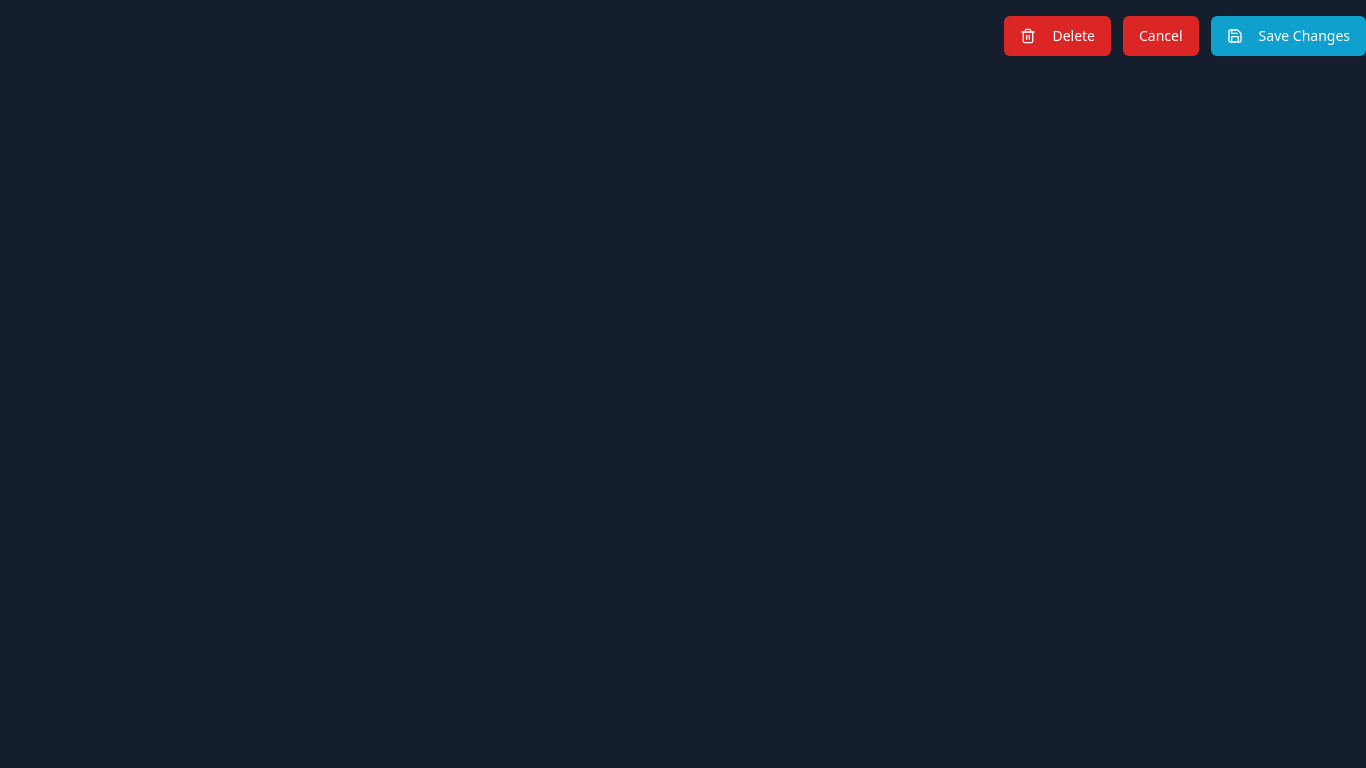
Test: editor deletion delegates to the queued page action › keeps a failed queue write visible rather than claiming deletion
Click the button "Delete" at (1058, 36), box [1004,16,1111,56]
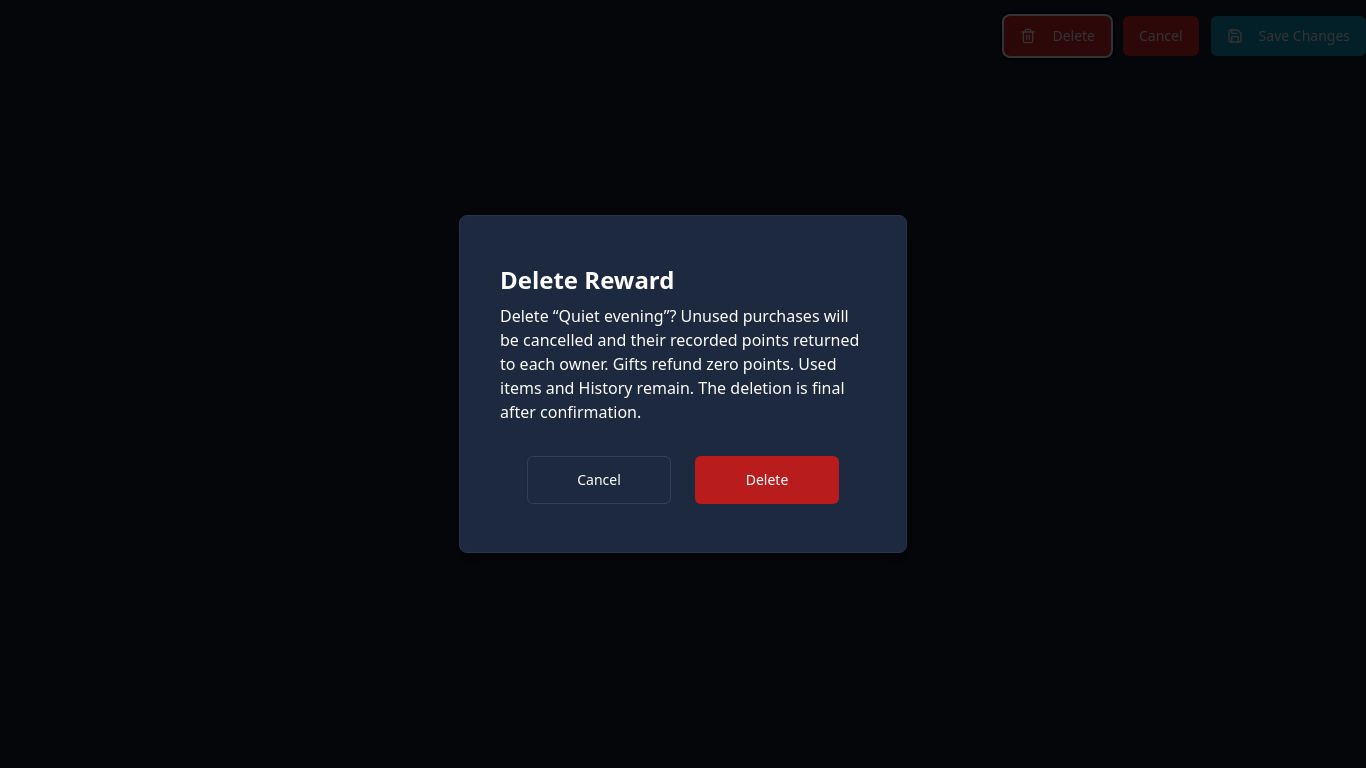
Click the button "Delete" at (767, 480), box [695,456,839,504]
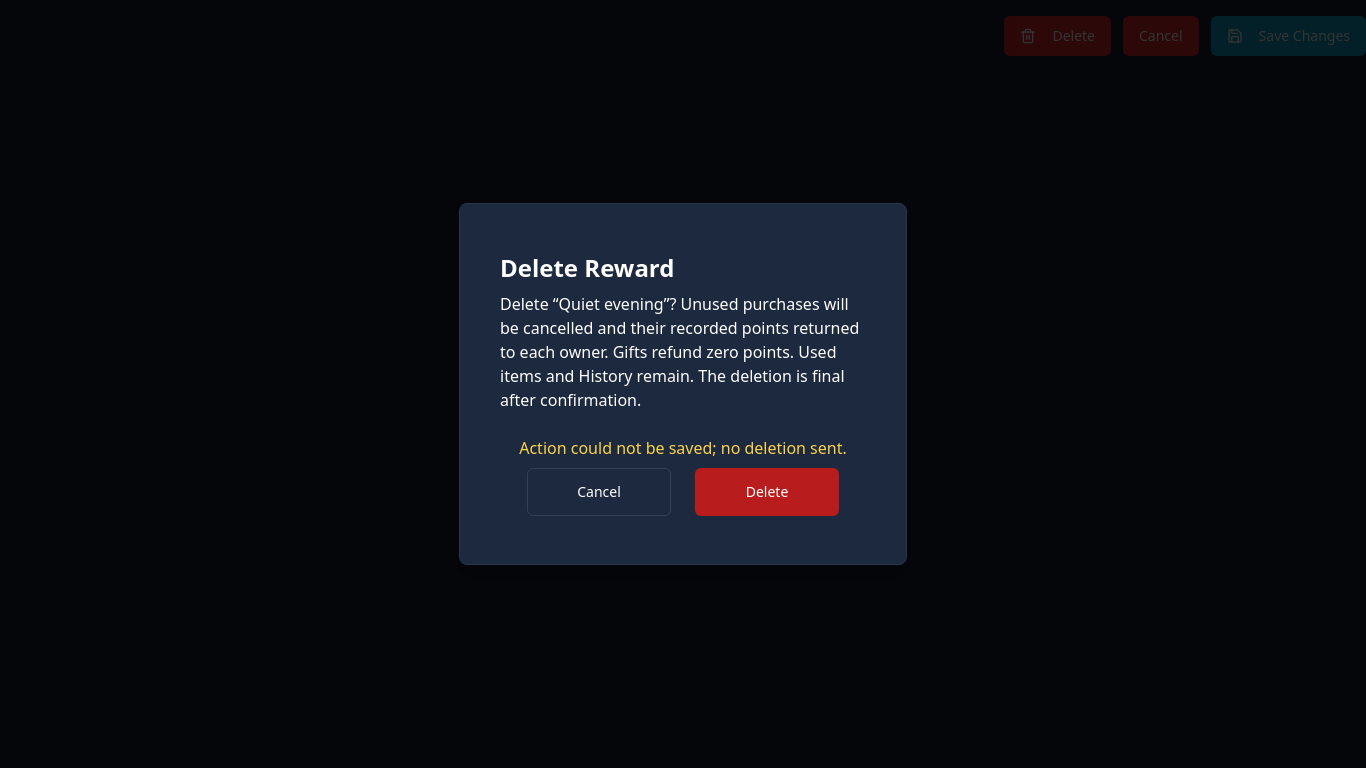
Expected: the message shows "no deletion sent", [519,437,847,459]
